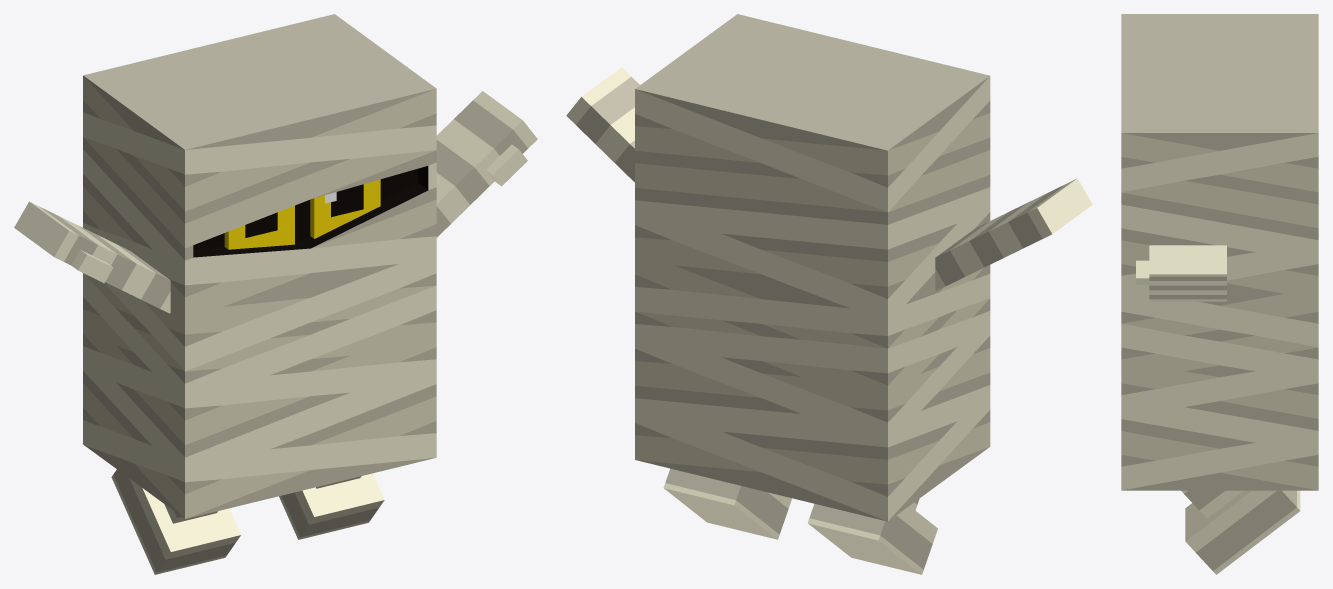
3 renders of one model, left to right at view 1: azimuth 30°, elevation 25°; view 2: azimuth 150°, elevation 25°; view 3: azimuth 270°, elevation 25°, orthographic. The views are drawn at different scales.
Visible parts, largest first — view 1: Ch_45, Ch_45_Hand_R, Ch_45_Leg_L, Ch_45_Hand_L, Ch_45_Leg_R; view 2: Ch_45, Ch_45_Hand_L, Ch_45_Leg_L, Ch_45_Leg_R, Ch_45_Hand_R; view 3: Ch_45, Ch_45_Leg_R, Ch_45_Hand_R.
Boxes of the visible parts, <box> form: Ch_45: <box>83,14,436,518</box>; Ch_45_Hand_R: <box>436,91,537,237</box>; Ch_45_Leg_L: <box>111,469,240,574</box>; Ch_45_Hand_L: <box>14,201,170,313</box>; Ch_45_Leg_R: <box>279,473,384,539</box>; Ch_45: <box>635,14,990,521</box>; Ch_45_Hand_L: <box>935,178,1092,290</box>; Ch_45_Leg_L: <box>808,498,937,574</box>; Ch_45_Leg_R: <box>663,468,791,539</box>; Ch_45_Hand_R: <box>566,67,639,182</box>; Ch_45: <box>1121,14,1318,490</box>; Ch_45_Leg_R: <box>1181,490,1300,574</box>; Ch_45_Hand_R: <box>1136,245,1226,301</box>.
Bounding box in the file's own units: 11.95 × 10.99 × 4.36.
